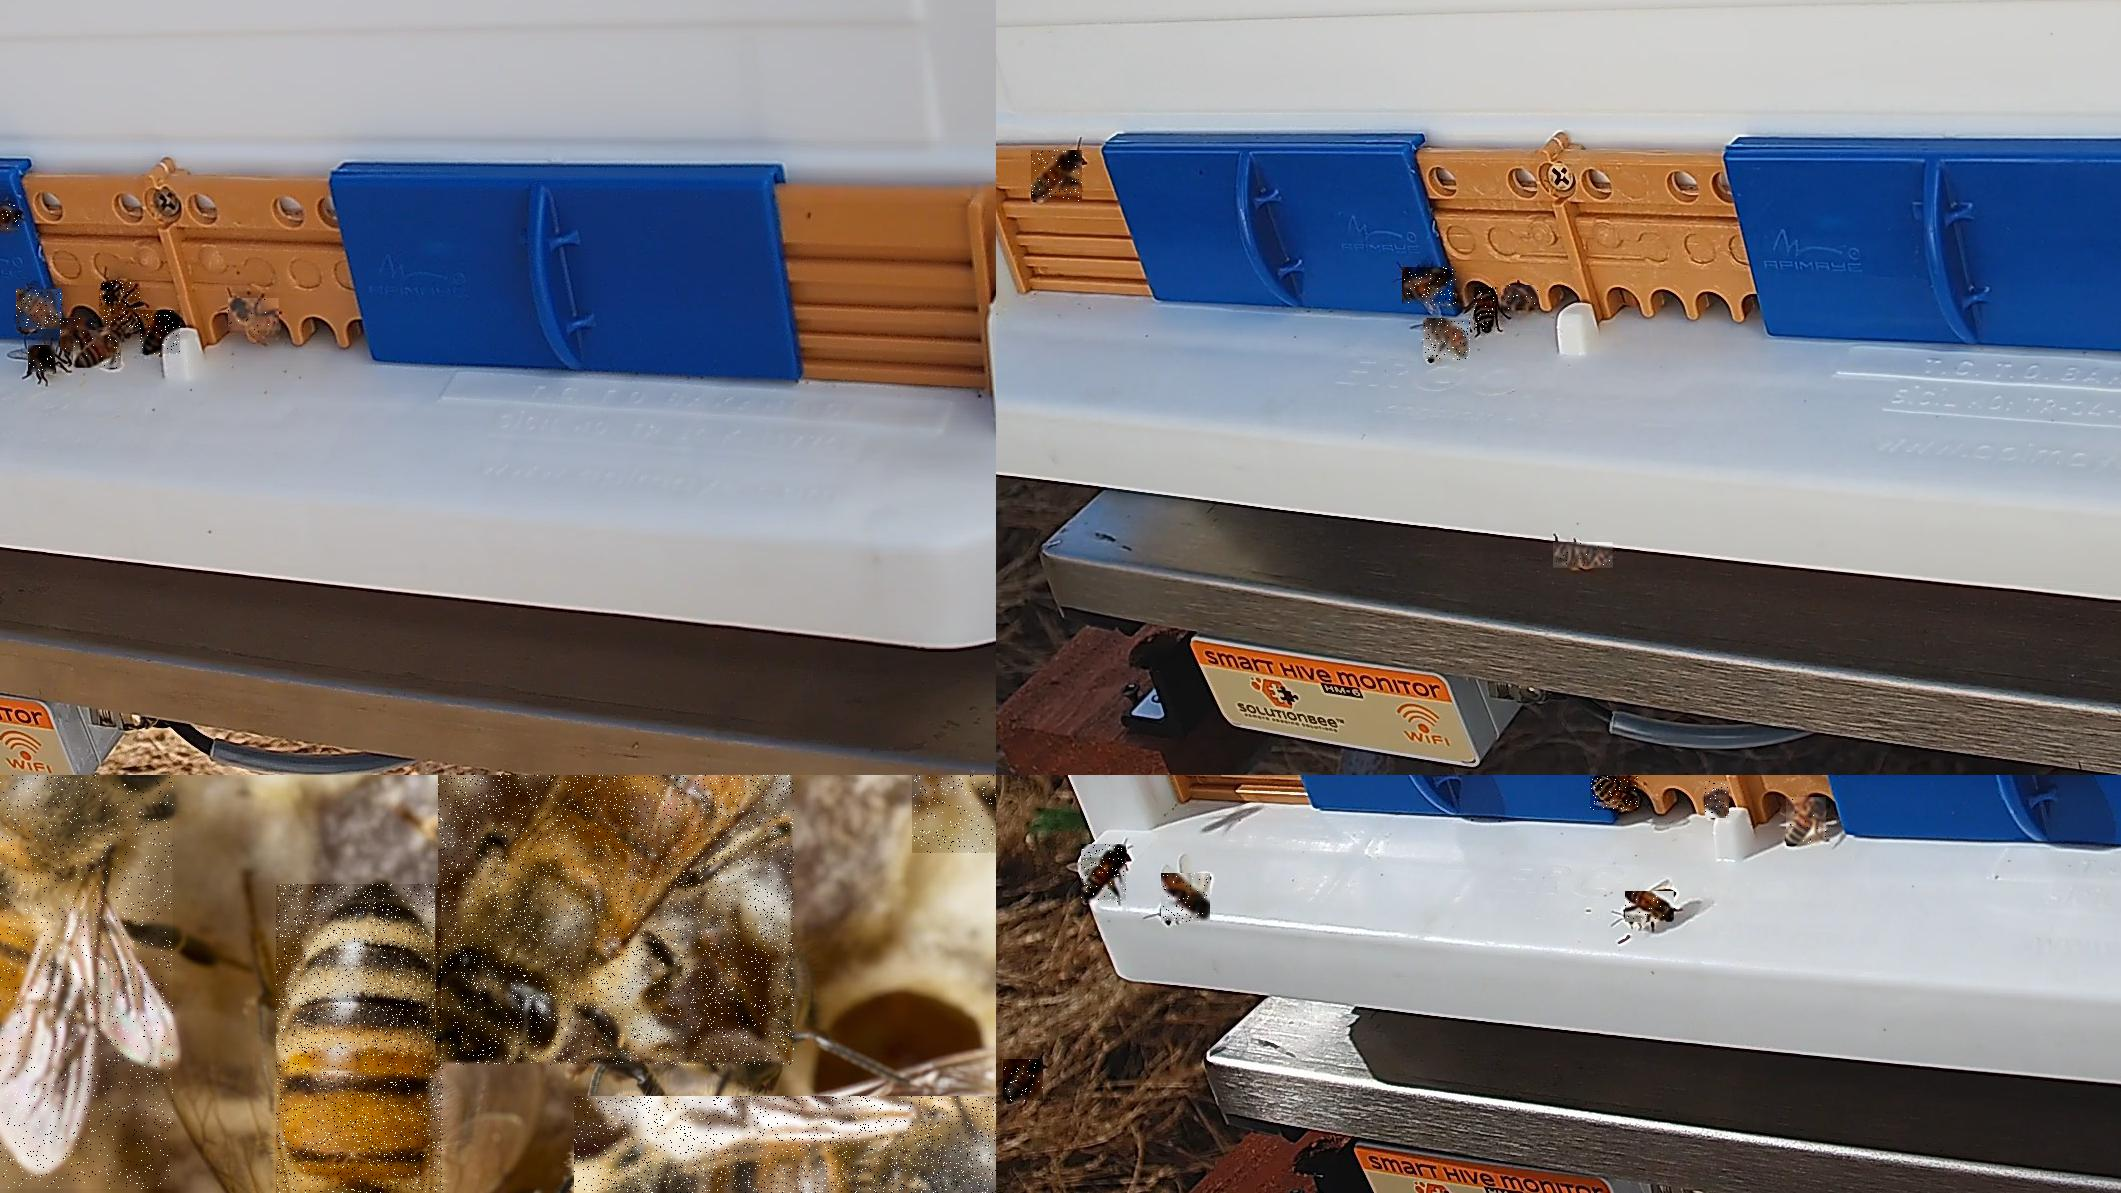bee: (438, 775, 795, 1068), (0, 775, 175, 1192), (275, 884, 444, 1192), (574, 1095, 995, 1192), (1031, 150, 1084, 202), (1161, 874, 1211, 924), (1403, 268, 1458, 307), (99, 280, 141, 328), (1423, 319, 1471, 361), (16, 288, 63, 331), (1786, 797, 1827, 845), (73, 331, 122, 369), (140, 310, 181, 355), (229, 299, 280, 334), (1004, 1060, 1044, 1104), (1553, 542, 1614, 570), (1591, 776, 1639, 811), (1626, 891, 1675, 924), (60, 318, 93, 351), (1474, 288, 1499, 332), (1500, 286, 1540, 310), (1706, 781, 1731, 819), (28, 345, 57, 374), (0, 204, 23, 232)
pollenbee: (1081, 845, 1128, 905)
